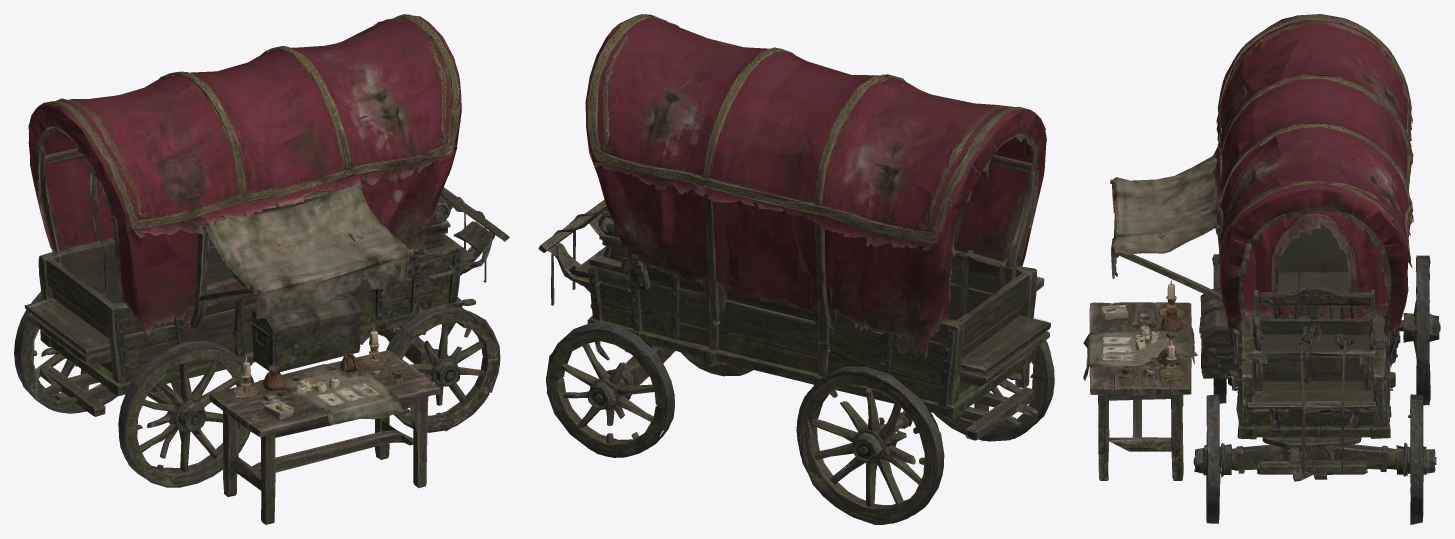
File: wagon.glb
3 renders of one model, left to right at view 1: azimuth 30°, elevation 25°; view 2: azimuth 150°, elevation 25°; view 3: azimuth 270°, elevation 25°, orthographic. The views are drawn at different scales.
Visible parts, largest first — view 1: Mesh_0; view 2: Mesh_0; view 3: Mesh_0.
Part boxes in pixels (x1,y1,x2,y2): Mesh_0: (14, 14, 509, 524); Mesh_0: (538, 14, 1054, 524); Mesh_0: (1083, 14, 1440, 524).
Bounding box in the file's own units: 3.88 × 3.1 × 2.84.
Materials: 1 (1 with a texture image).
